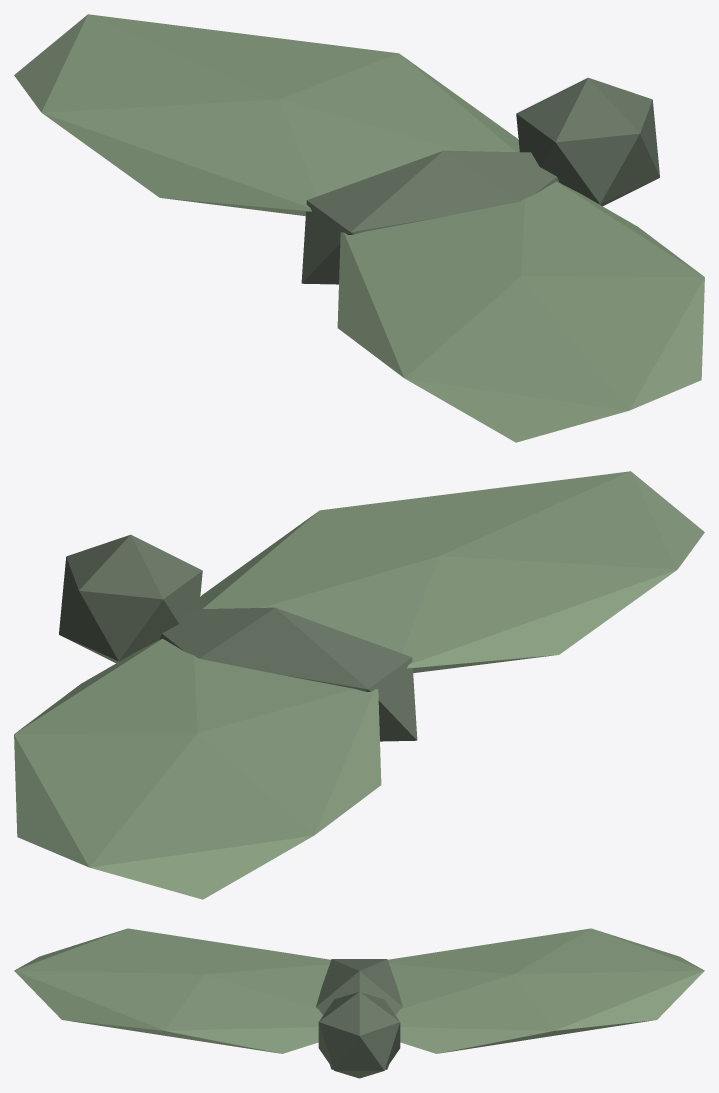
Rendered from bird.glb.
The picture shows the model from 3 angles, top to bottom: view 1: azimuth 30°, elevation 25°; view 2: azimuth 150°, elevation 25°; view 3: azimuth 270°, elevation 25°; orthographic projection. The views are drawn at different scales.
Visible parts, largest first — view 1: feathers, feathers.001, body.001, head.001; view 2: feathers.001, feathers, body.001, head.001; view 3: feathers, feathers.001, head.001, body.001.
Part boxes in pixels (box(x1,y1,x2,y2)): feathers: box(337, 181, 704, 442); feathers.001: box(14, 14, 519, 215); body.001: box(301, 150, 559, 284); head.001: box(516, 77, 659, 206); feathers.001: box(14, 638, 381, 899); feathers: box(199, 471, 704, 672); body.001: box(159, 607, 417, 741); head.001: box(59, 534, 202, 663); feathers: box(14, 928, 330, 1053); feathers.001: box(388, 928, 704, 1053); head.001: box(318, 992, 400, 1078); body.001: box(316, 959, 402, 1069).
Bounding box in the file's own units: 0.5951 × 0.23 × 1.3.
